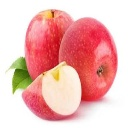apple: (20, 61, 83, 120)
